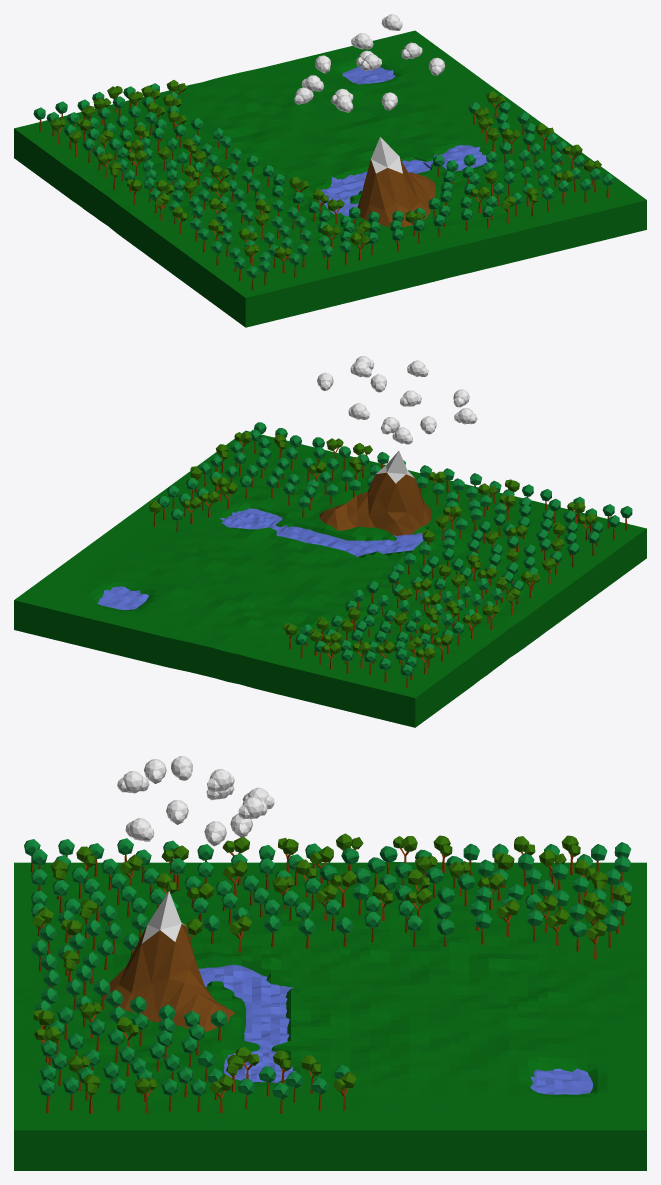
Rendered from MVP Scene.fbx.
3 views of the same model, one above another, from view 1: azimuth 30°, elevation 25°; view 2: azimuth 150°, elevation 25°; view 3: azimuth 270°, elevation 25° (orthographic). The views are drawn at different scales.
Parts seen in each view (by area): view 1: Plane, Plane.001, Plane.003, Cube.002, Plane.004; view 2: Plane, Plane.001, Plane.003, Cube.002, Plane.004; view 3: Plane, Plane.001, Plane.003, Plane.004, Cube.002.
Part boxes in pixels (bbox=[...]): Plane: bbox=[14, 30, 646, 327]; Plane.001: bbox=[357, 137, 435, 226]; Plane.003: bbox=[319, 159, 430, 215]; Cube.002: bbox=[422, 145, 487, 171]; Plane.004: bbox=[342, 67, 395, 84]; Plane: bbox=[14, 430, 646, 727]; Plane.001: bbox=[319, 451, 431, 535]; Plane.003: bbox=[276, 526, 423, 557]; Cube.002: bbox=[220, 508, 287, 532]; Plane.004: bbox=[97, 586, 148, 609]; Plane: bbox=[14, 861, 646, 1170]; Plane.001: bbox=[104, 891, 234, 1031]; Plane.003: bbox=[199, 964, 293, 1045]; Plane.004: bbox=[530, 1068, 592, 1094]; Cube.002: bbox=[223, 1043, 296, 1082].
Size of the model in its own units: 13417 by 6473 by 13417.
